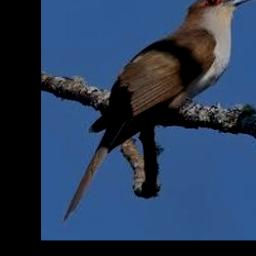Cuckoo: (64, 0, 256, 221)
